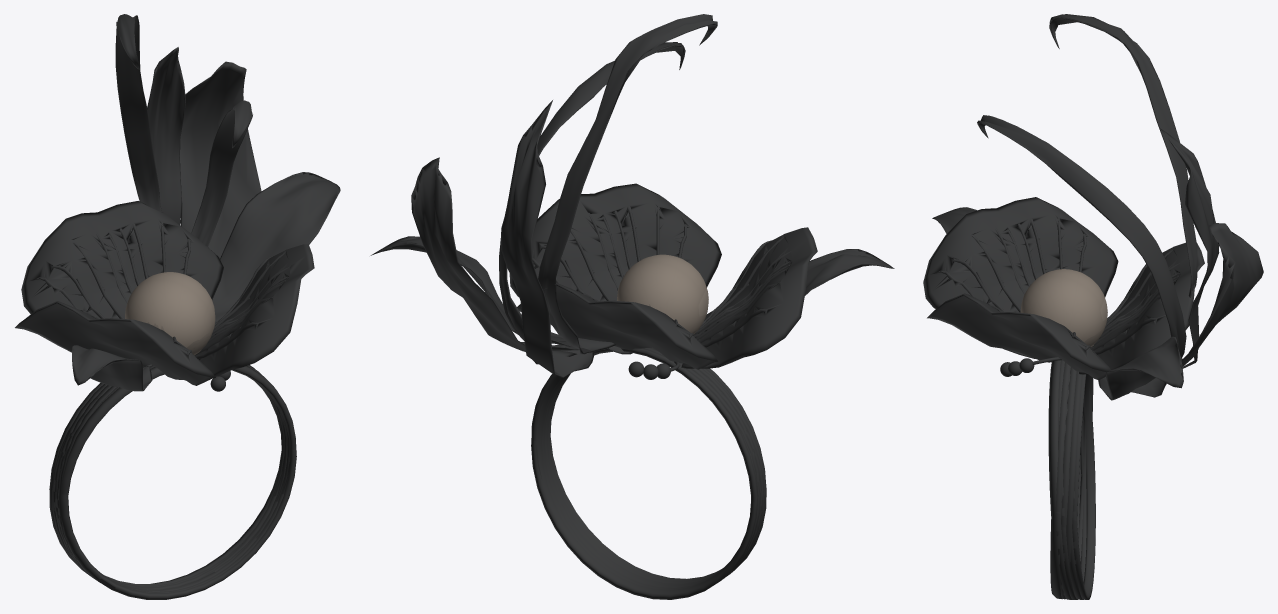
Rendered from 戒指材质.fbx.
The picture shows the model from 3 angles, left to right: view 1: azimuth 30°, elevation 25°; view 2: azimuth 150°, elevation 25°; view 3: azimuth 270°, elevation 25°; orthographic projection. The views are drawn at different scales.
Visible parts, largest first — view 1: Default; view 2: Default; view 3: Default.
Boxes of the visible parts, x1=… form: Default: x1=15, y1=14, x2=340, y2=599; Default: x1=370, y1=14, x2=894, y2=599; Default: x1=923, y1=14, x2=1263, y2=599.
Bounding box in the file's own units: 111 × 157 × 87.59.
